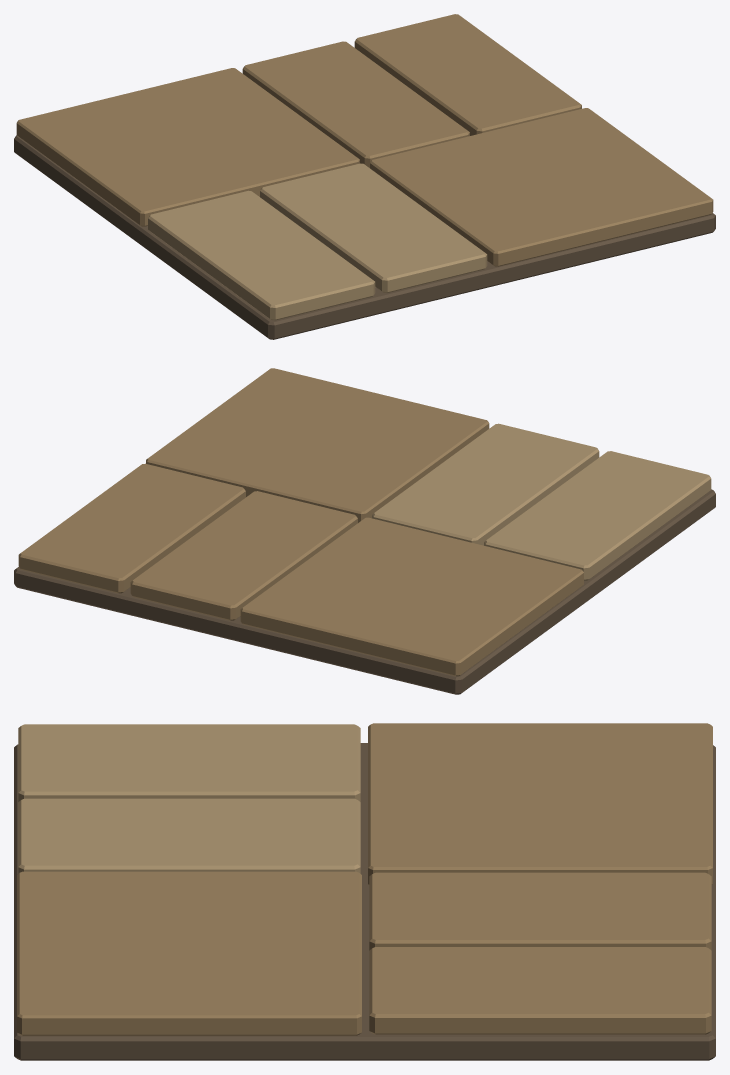
The model's file is floor-cracked.glb.
The picture shows the model from 3 angles, top to bottom: view 1: azimuth 30°, elevation 25°; view 2: azimuth 150°, elevation 25°; view 3: azimuth 270°, elevation 25°; orthographic projection. The views are drawn at different scales.
Visible parts, largest first — view 1: floor-cracked__body; view 2: floor-cracked__body; view 3: floor-cracked__body.
Boxes of the visible parts, x1,y1,x2,y2 form: floor-cracked__body: [14, 14, 715, 339]; floor-cracked__body: [14, 368, 715, 694]; floor-cracked__body: [14, 723, 715, 1060].
Size of the model in its own units: 2 by 0.14 by 2.
